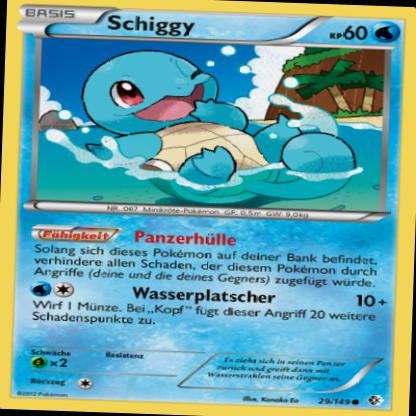Squirtle: (75, 43, 364, 208)
